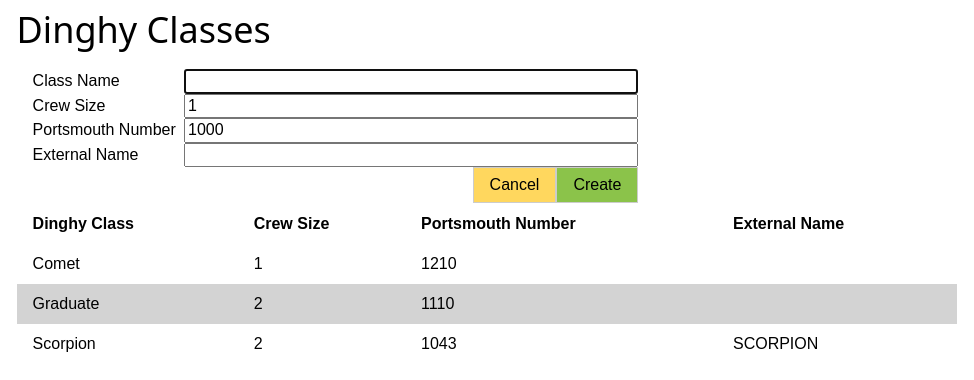
Test: when a dinghy class is selected › when update button clicked › when update is successful › clears input fields
Click the cell "Scorpion" at (64, 343), box [17,324,246,364]
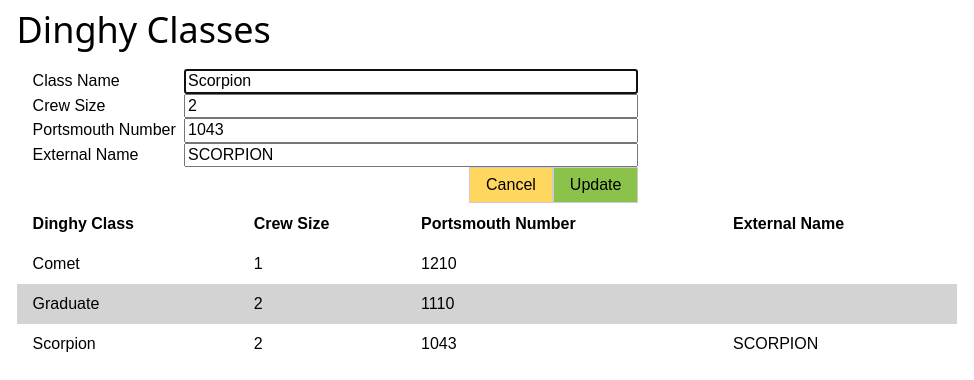
Replace the text in the field labelled "Class Name" with "Scorp Pro" at (411, 82), box [184,69,638,94]
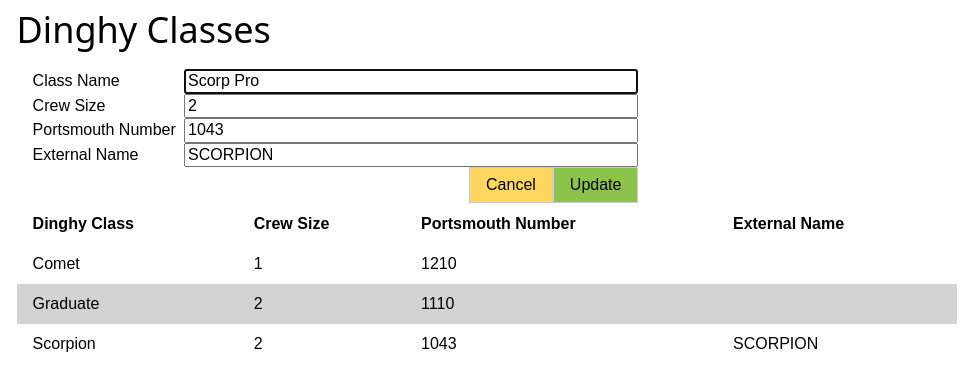
Replace the text in the number field labelled "Crew Size" with "3" at (411, 106), box [184,94,638,118]
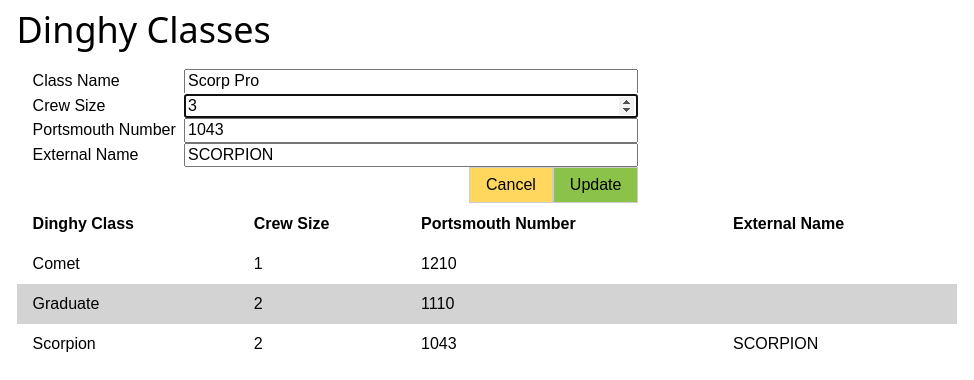
Replace the text in the number field labelled "Portsmouth Number" with "999" at (411, 130), box [184,118,638,143]
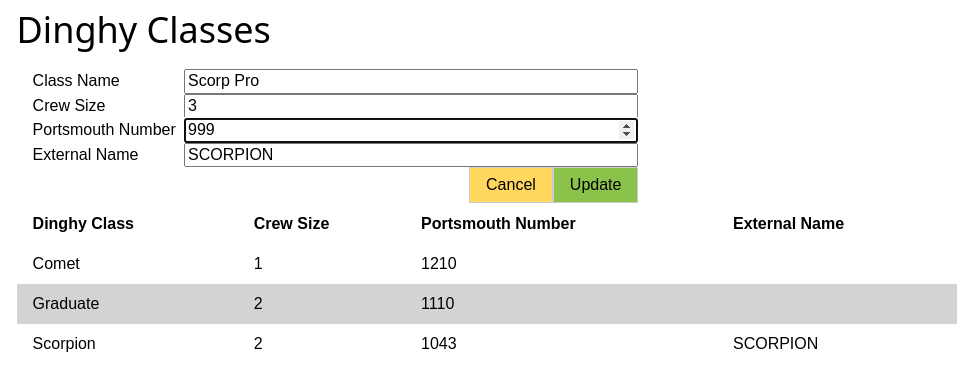
Replace the text in the field labelled "External Name" with "SCORPION PRO" at (411, 155), box [184,143,638,167]
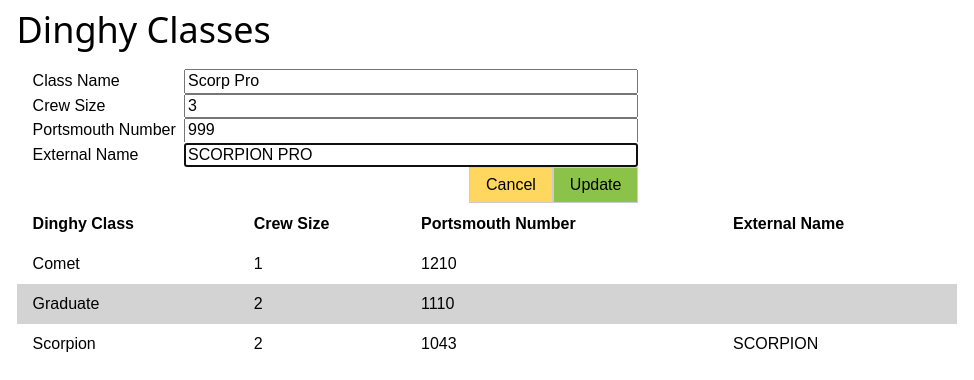
Click the button "Update" at (596, 185), box [553,167,638,203]
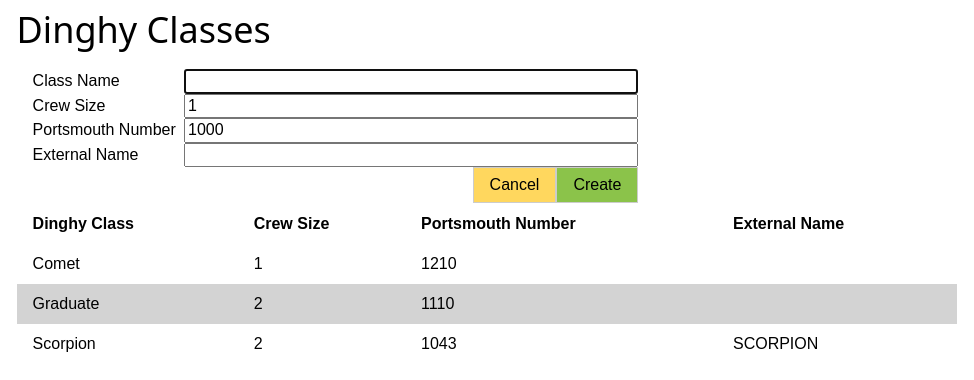
Now the number field labelled "Crew Size" holds "1", box [184,94,638,118]
Now the number field labelled "Portsmouth Number" holds "1000", box [184,118,638,143]
Now the button "Create" is shown, box [556,167,638,203]
